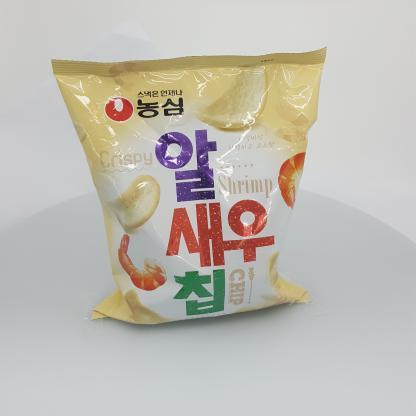Plastic Packaging: (47, 42, 337, 334)
